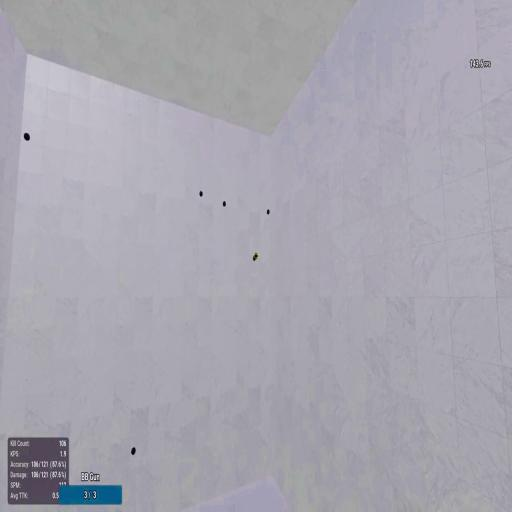Crosshair: (254, 251, 258, 260)
Target: (130, 443, 137, 457), (23, 131, 30, 142), (199, 190, 204, 197), (222, 200, 226, 207), (266, 209, 270, 215), (252, 255, 256, 261)
